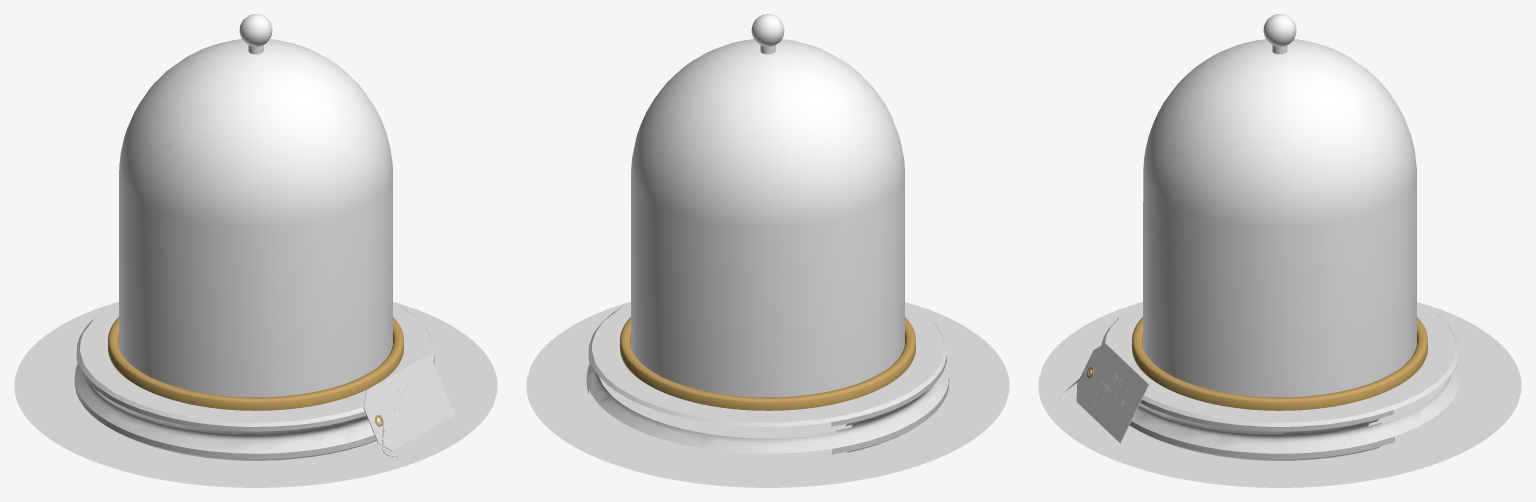
3 renders of one model, left to right at view 1: azimuth 30°, elevation 25°; view 2: azimuth 150°, elevation 25°; view 3: azimuth 270°, elevation 25°, orthographic.
Visible parts, largest first — view 1: jar_glass, set_all, jar_rim; view 2: jar_glass, set_all, jar_rim; view 3: jar_glass, set_all, jar_rim.
Boxes of the visible parts, box(x1,y1,x2,y2) form: jar_glass: box(119, 14, 392, 397); set_all: box(14, 301, 497, 487); jar_rim: box(108, 317, 403, 410); jar_glass: box(631, 14, 904, 397); set_all: box(526, 301, 1009, 487); jar_rim: box(620, 317, 915, 410); jar_glass: box(1143, 14, 1416, 397); set_all: box(1038, 301, 1521, 487); jar_rim: box(1132, 317, 1427, 410).
Size of the model in its own units: 1.52 by 1.28 by 1.52.
